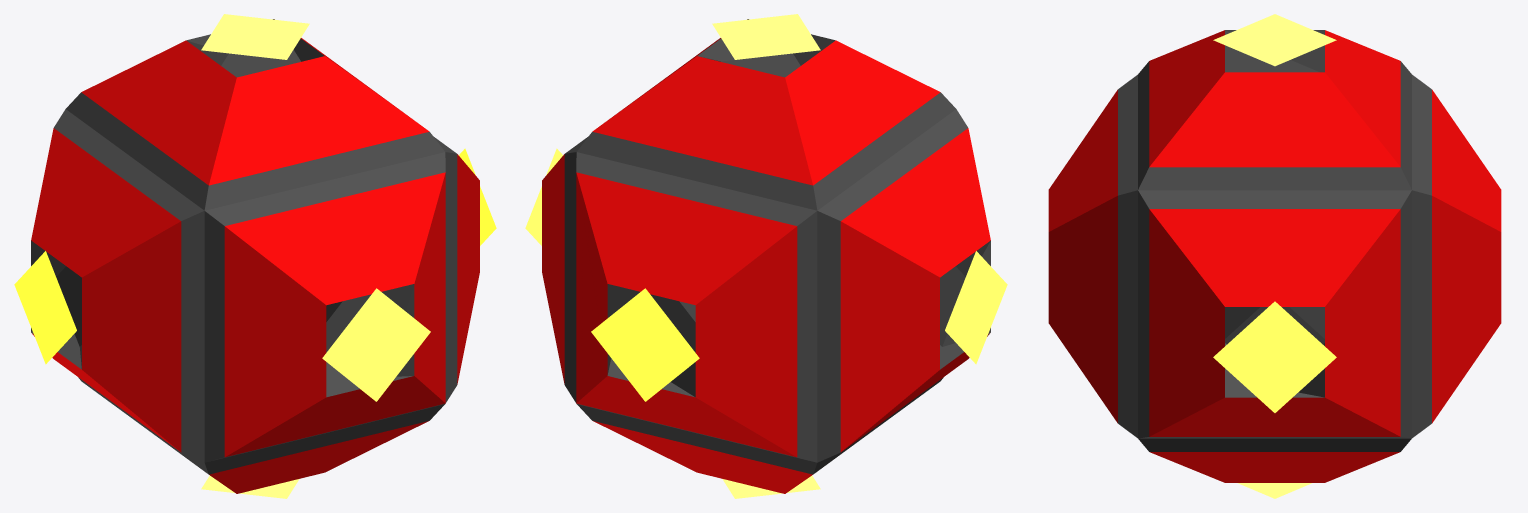
The model's file is mine.FBX.
3 views of the same model, side by side, from view 1: azimuth 30°, elevation 25°; view 2: azimuth 150°, elevation 25°; view 3: azimuth 270°, elevation 25° (orthographic).
Visible parts, largest first — view 1: mine_red, mine, DangerLights; view 2: mine_red, mine, DangerLights; view 3: mine_red, mine, DangerLights.
Part boxes in pixels (x1,y1,x2,y2): mine_red: [31, 38, 479, 493]; mine: [31, 19, 457, 474]; DangerLights: [14, 14, 496, 498]; mine_red: [542, 38, 990, 493]; mine: [564, 19, 990, 474]; DangerLights: [525, 14, 1007, 498]; mine_red: [1048, 30, 1501, 482]; mine: [1118, 30, 1431, 451]; DangerLights: [1213, 14, 1336, 498].
Size of the model in its own units: 402 by 402 by 402.
